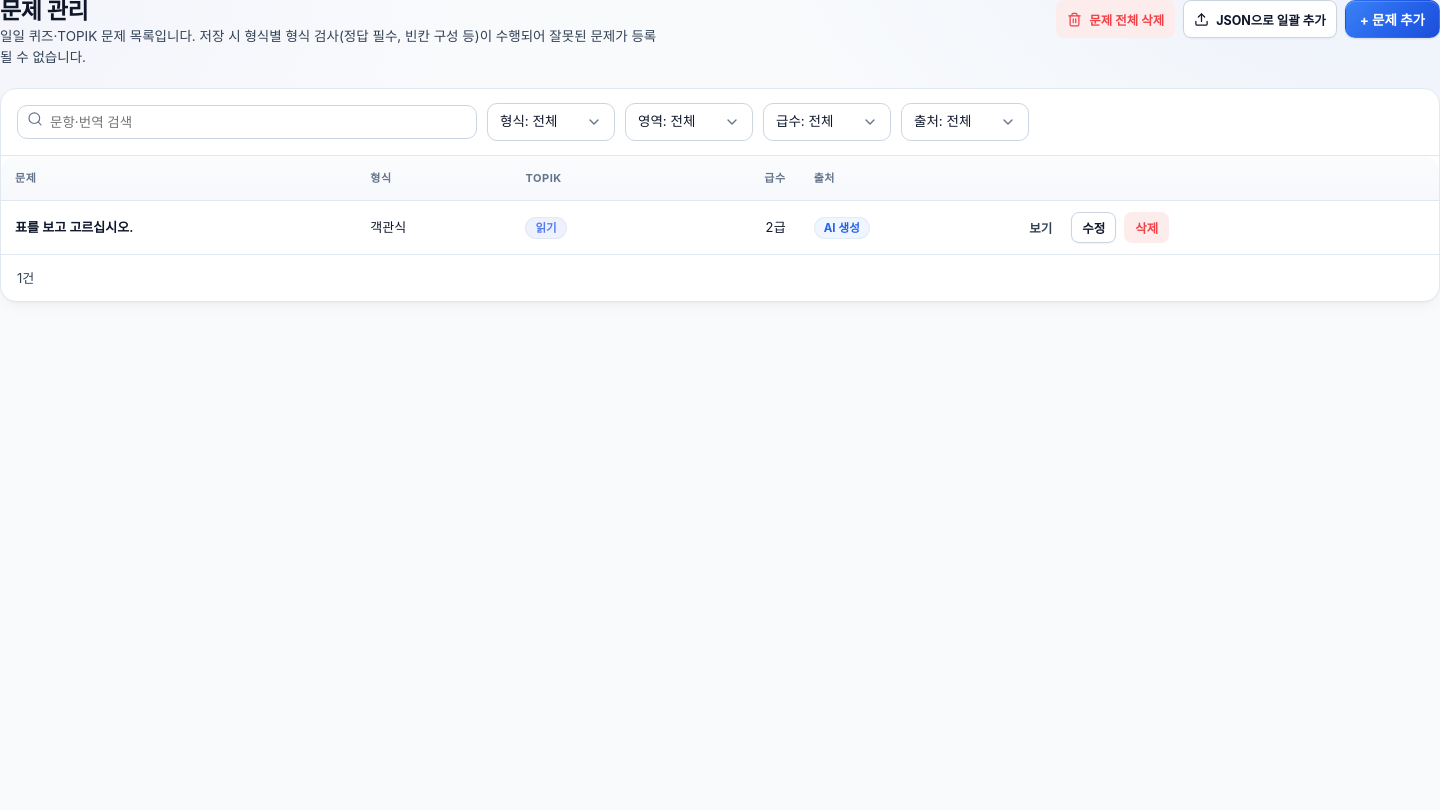
it: quiz preview › renders the passage HTML sanitized, never as live markup
The image size is (1440, 810).
Click the text "표를 보고 고르십시오.".
click(74, 227)  # box [15,219,133,235]
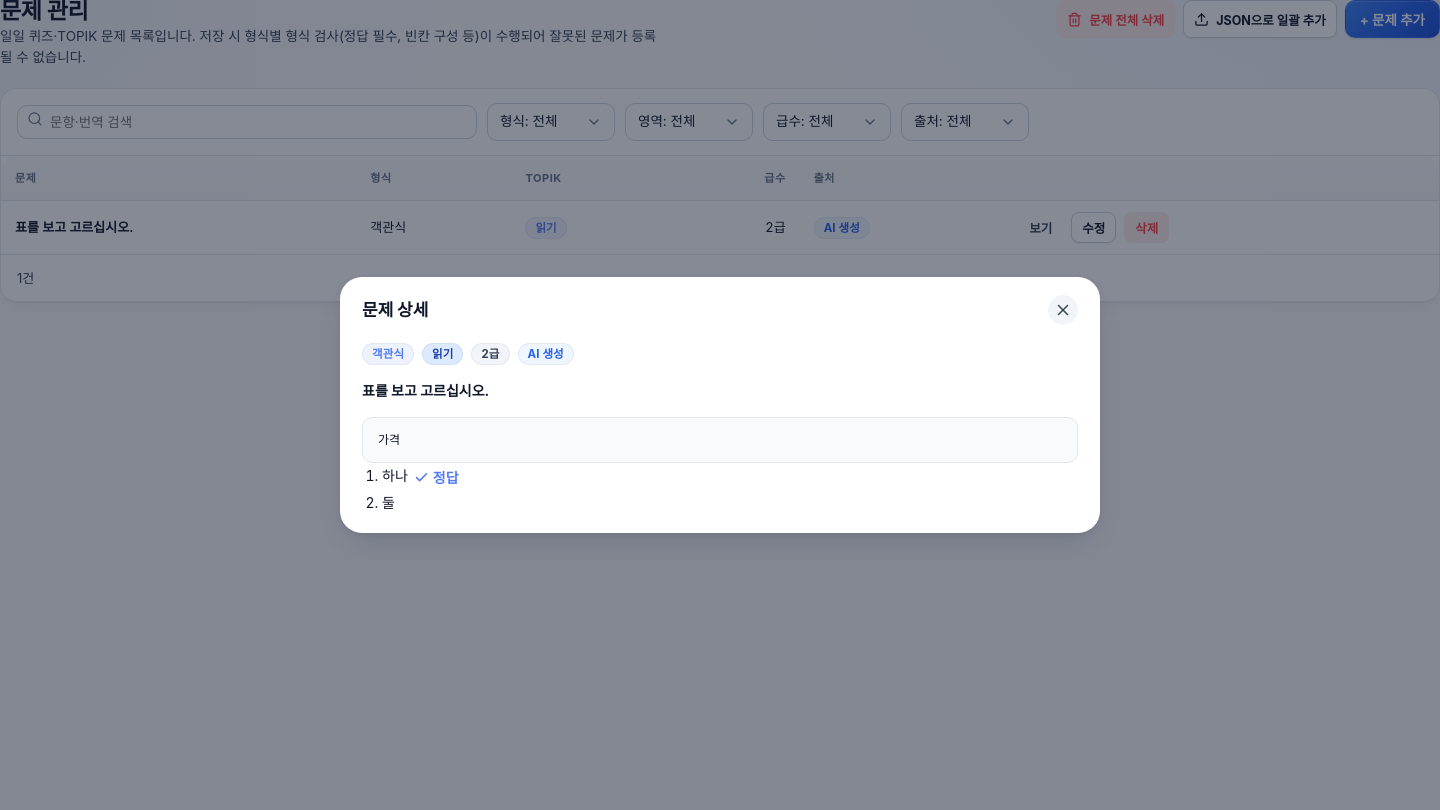
Check: the text "가격" is shown, box [377,430,401,450]
